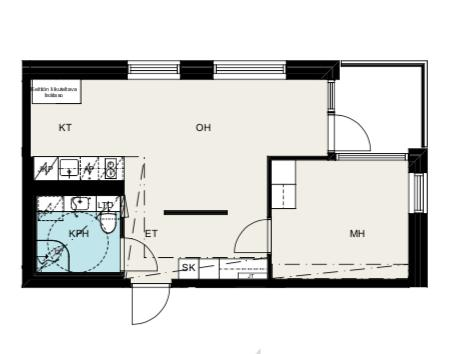bathroom: (37, 197, 122, 274)
door: (128, 280, 174, 330), (323, 110, 375, 153), (117, 235, 161, 274), (232, 216, 274, 256)
perimeter: (21, 60, 427, 286)
window: (208, 56, 291, 84), (123, 57, 185, 84), (406, 168, 432, 219), (333, 150, 410, 166), (325, 77, 339, 113)
